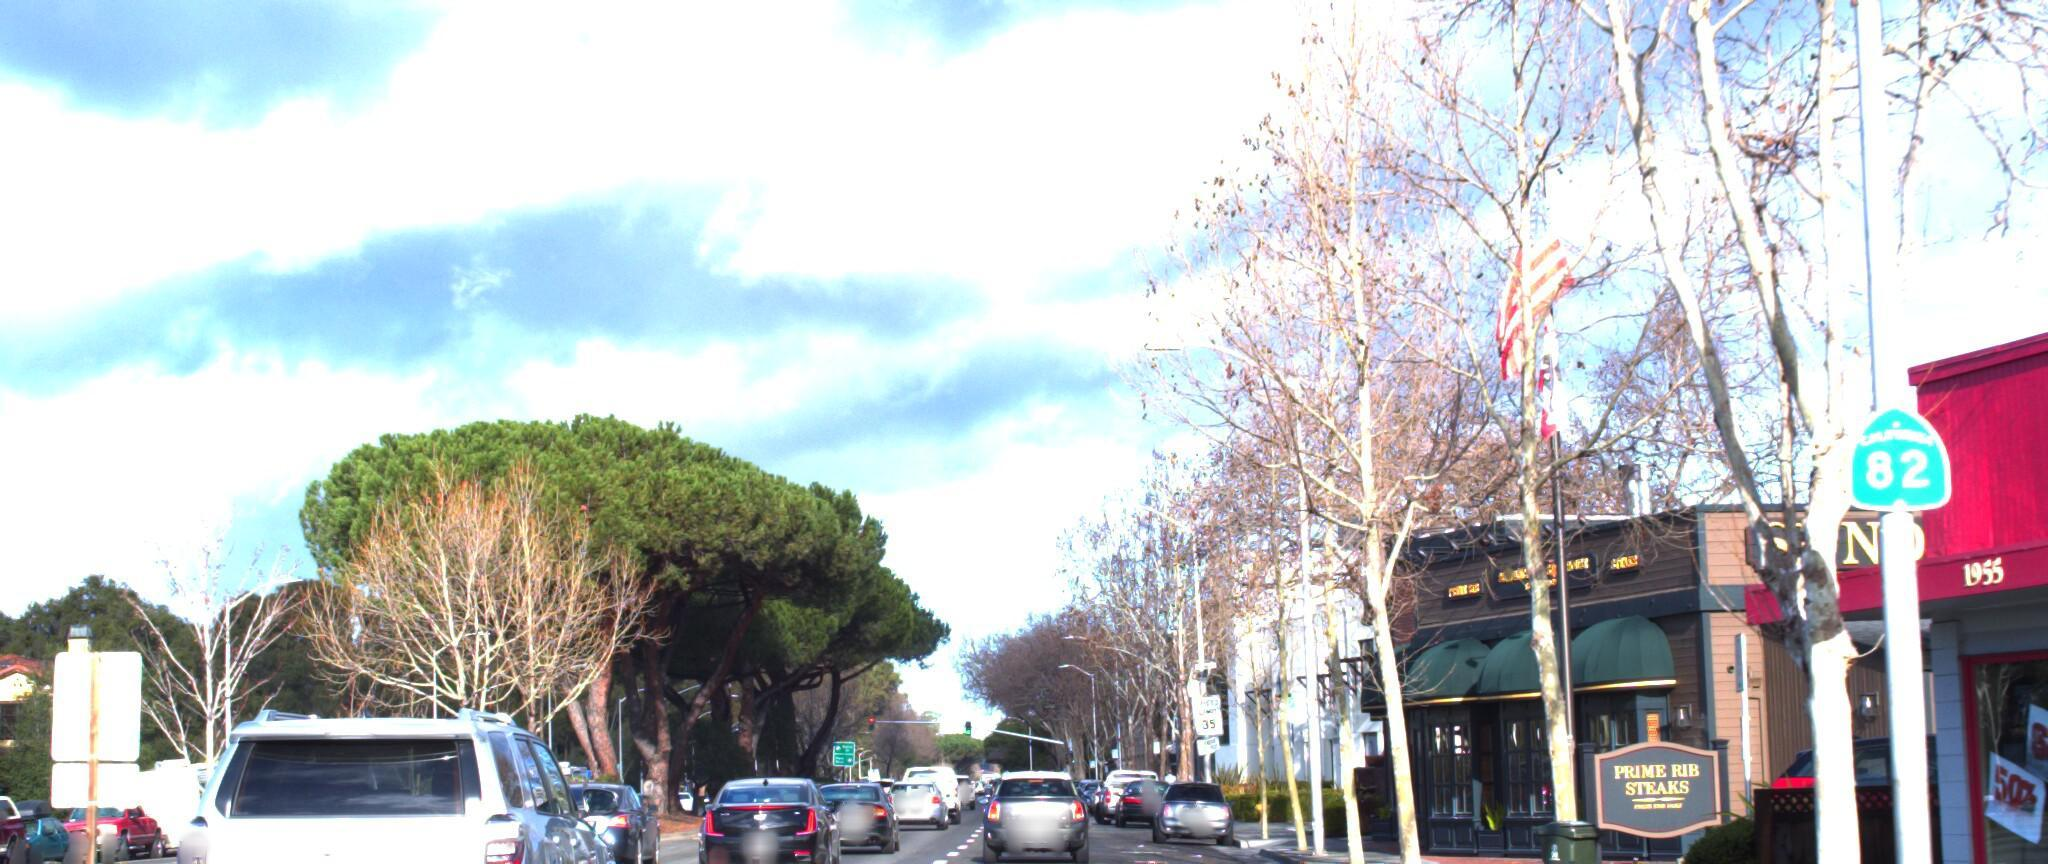car: (135, 688, 644, 864), (691, 767, 848, 864), (515, 765, 666, 864), (968, 757, 1081, 856), (793, 783, 899, 860), (1142, 757, 1229, 831), (0, 778, 31, 864)
